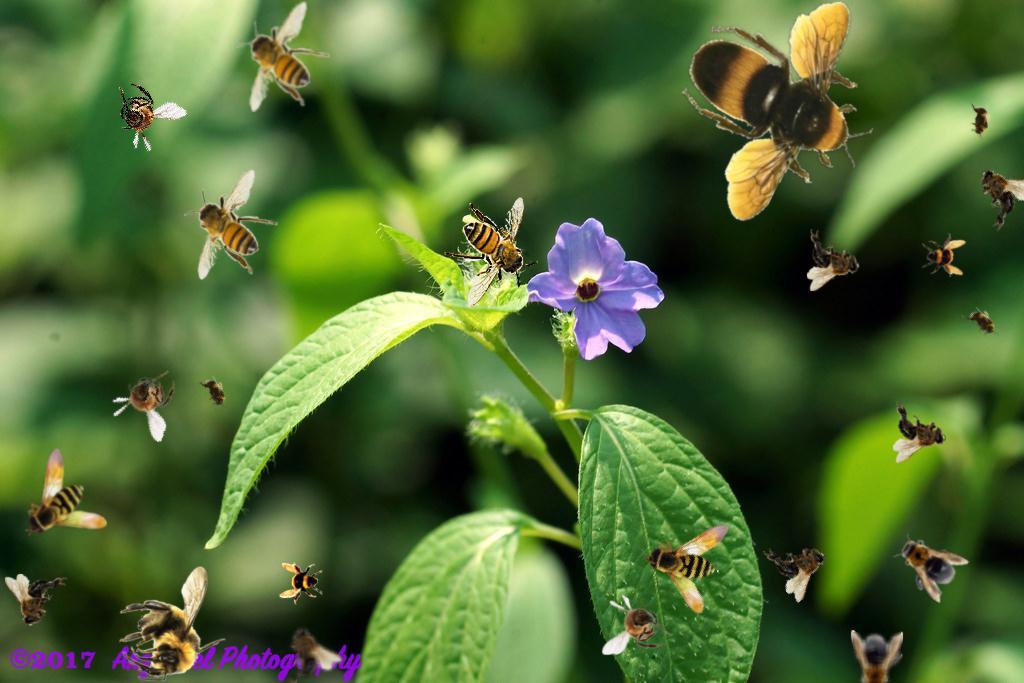Bee: (682, 2, 873, 222), (640, 501, 760, 621), (119, 566, 226, 681), (236, 1, 330, 112), (184, 169, 278, 280), (444, 197, 538, 308), (95, 70, 188, 162), (104, 355, 187, 443), (25, 448, 107, 536), (884, 523, 970, 605), (760, 523, 839, 605), (265, 616, 346, 683), (959, 152, 1024, 234), (602, 594, 672, 655), (807, 229, 860, 291), (5, 574, 67, 627), (893, 401, 946, 463), (851, 630, 903, 683), (961, 301, 1005, 345), (279, 561, 323, 605), (922, 233, 966, 277), (196, 370, 234, 416), (967, 100, 993, 142)
